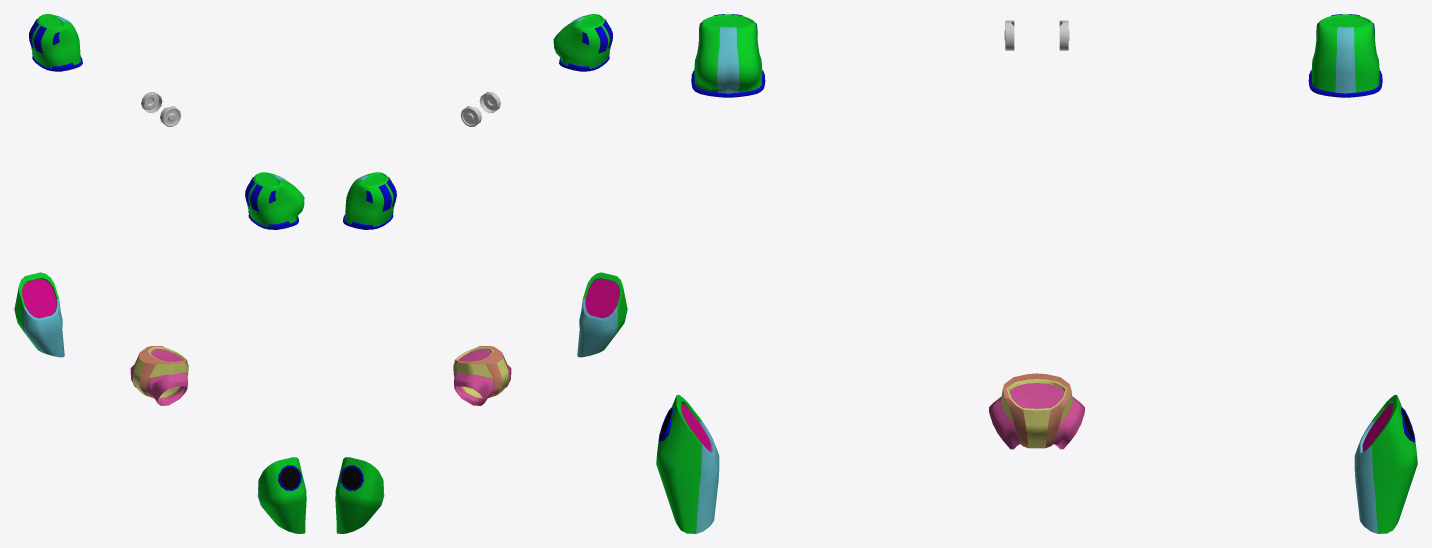
File: Civilian.fbx
The picture shows the model from 3 angles, left to right: view 1: azimuth 30°, elevation 25°; view 2: azimuth 150°, elevation 25°; view 3: azimuth 270°, elevation 25°; orthographic projection. The views are drawn at different scales.
Visible parts, largest first — view 1: Left_UpperLeg_Piece, Right_UpperLeg_Piece, Chest_Female_Piece, Hip, Chest_Male_Piece, ArmConnector_Piece; view 2: Right_UpperLeg_Piece, Left_UpperLeg_Piece, Chest_Female_Piece, Hip, Chest_Male_Piece, ArmConnector_Piece; view 3: Right_UpperLeg_Piece, Left_UpperLeg_Piece, Hip, Chest_Male_Piece, Chest_Female_Piece.
Boxes of the visible parts, x1,y1,x2,y2 form: Left_UpperLeg_Piece: (14, 272, 64, 357); Right_UpperLeg_Piece: (257, 457, 306, 533); Chest_Female_Piece: (245, 172, 304, 229); Hip: (130, 346, 188, 405); Chest_Male_Piece: (29, 14, 82, 71); ArmConnector_Piece: (141, 92, 181, 126); Right_UpperLeg_Piece: (577, 272, 627, 357); Left_UpperLeg_Piece: (335, 457, 384, 533); Chest_Female_Piece: (553, 14, 612, 71); Hip: (453, 346, 511, 405); Chest_Male_Piece: (343, 172, 396, 229); ArmConnector_Piece: (460, 92, 500, 126); Right_UpperLeg_Piece: (656, 394, 719, 533); Left_UpperLeg_Piece: (1354, 394, 1417, 533); Hip: (989, 373, 1084, 449); Chest_Male_Piece: (1308, 14, 1382, 97); Chest_Female_Piece: (691, 14, 765, 97).
Size of the model in its own units: 29.16 by 178 by 247.
